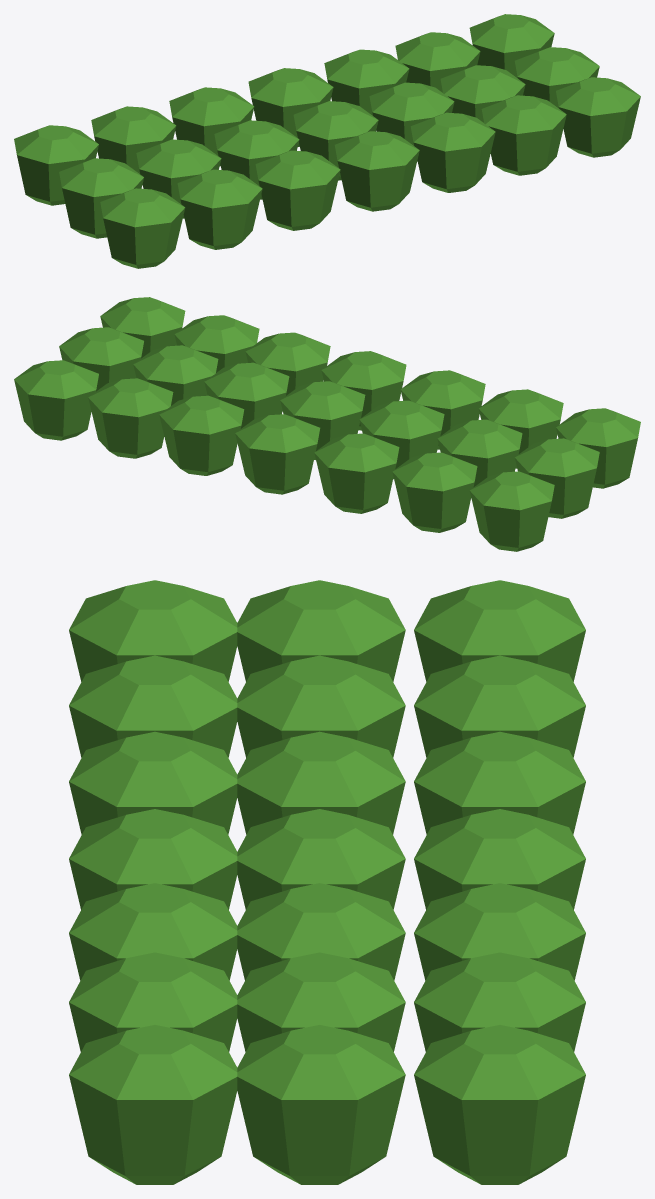
File: PommeVertGroupe.fbx
3 renders of one model, top to bottom at view 1: azimuth 30°, elevation 25°; view 2: azimuth 150°, elevation 25°; view 3: azimuth 270°, elevation 25°, orthographic. The views are drawn at different scales.
Visible parts, largest first — view 1: Cylinder, Cylinder.003, Cylinder.002, Cylinder.001, Cylinder.005, Cylinder.007, Cylinder.006, Cylinder.015, Cylinder.014, Cylinder.018, Cylinder.017, Cylinder.016 (+9 smaller); view 2: Cylinder.015, Cylinder.018, Cylinder.017, Cylinder.016, Cylinder.019, Cylinder.021, Cylinder.020, Cylinder.014, Cylinder, Cylinder.011, Cylinder.012, Cylinder.013 (+9 smaller); view 3: Cylinder.021, Cylinder.007, Cylinder.008, Cylinder.017, Cylinder.002, Cylinder.012, Cylinder.016, Cylinder.001, Cylinder.013, Cylinder.015, Cylinder, Cylinder.014 (+9 smaller).
Part boxes in pixels (x1,y1,x2,y2): Cylinder: [100, 188, 185, 268]; Cylinder.003: [334, 131, 419, 211]; Cylinder.002: [255, 150, 340, 230]; Cylinder.001: [177, 169, 262, 249]; Cylinder.005: [410, 112, 495, 192]; Cylinder.007: [556, 77, 640, 157]; Cylinder.006: [481, 95, 566, 175]; Cylinder.015: [14, 125, 98, 205]; Cylinder.014: [59, 158, 143, 238]; Cylinder.018: [248, 68, 333, 146]; Cylinder.017: [169, 87, 254, 165]; Cylinder.016: [91, 106, 176, 173]; Cylinder.015: [469, 471, 554, 551]; Cylinder.018: [235, 414, 320, 494]; Cylinder.017: [314, 433, 399, 513]; Cylinder.016: [392, 452, 477, 532]; Cylinder.019: [159, 395, 244, 475]; Cylinder.021: [14, 360, 98, 440]; Cylinder.020: [88, 378, 173, 458]; Cylinder.014: [514, 438, 599, 518]; Cylinder: [556, 408, 640, 488]; Cylinder.011: [280, 381, 365, 459]; Cylinder.012: [359, 400, 444, 479]; Cylinder.013: [437, 419, 522, 487]; Cylinder.021: [414, 1025, 585, 1184]; Cylinder.007: [69, 1025, 237, 1184]; Cylinder.008: [237, 1025, 405, 1184]; Cylinder.017: [414, 731, 585, 834]; Cylinder.002: [69, 731, 237, 834]; Cylinder.012: [237, 731, 405, 834]; Cylinder.016: [414, 655, 585, 757]; Cylinder.001: [69, 655, 237, 757]; Cylinder.013: [237, 655, 405, 757]; Cylinder.015: [414, 580, 585, 681]; Cylinder: [69, 580, 237, 681]; Cylinder.014: [237, 580, 405, 681].
Bounding box in the file's own units: 580 × 67.18 × 246.
